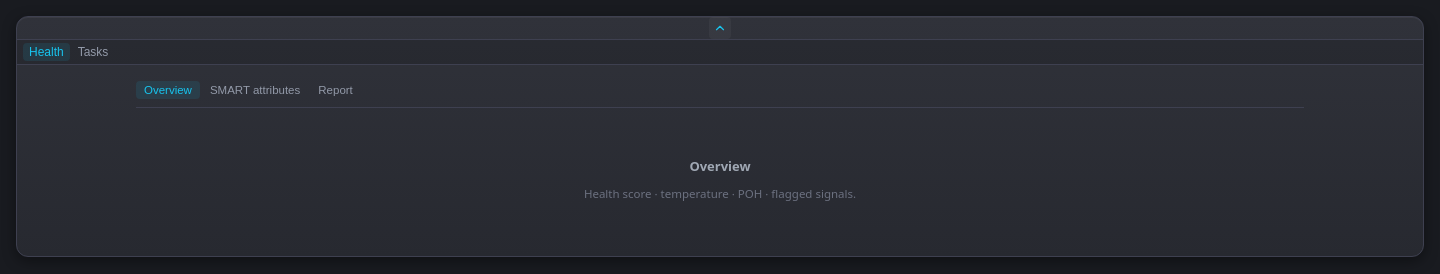
Test case: WorkspacePanel › switches to the History tab
Click the button "Tasks" at (93,52), box [72, 43, 114, 61]
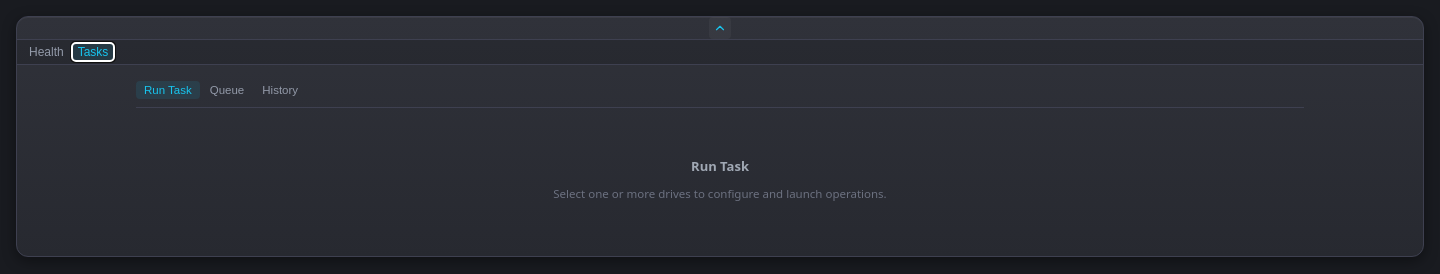
Click the button "History" at (280,90), box [254, 81, 306, 99]
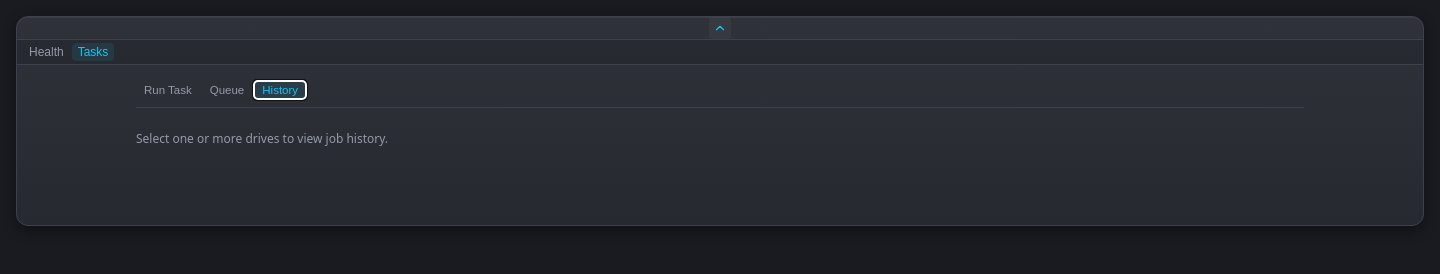
Check: the text "Select one or more drives to view job history." is shown, box [136, 130, 388, 147]
